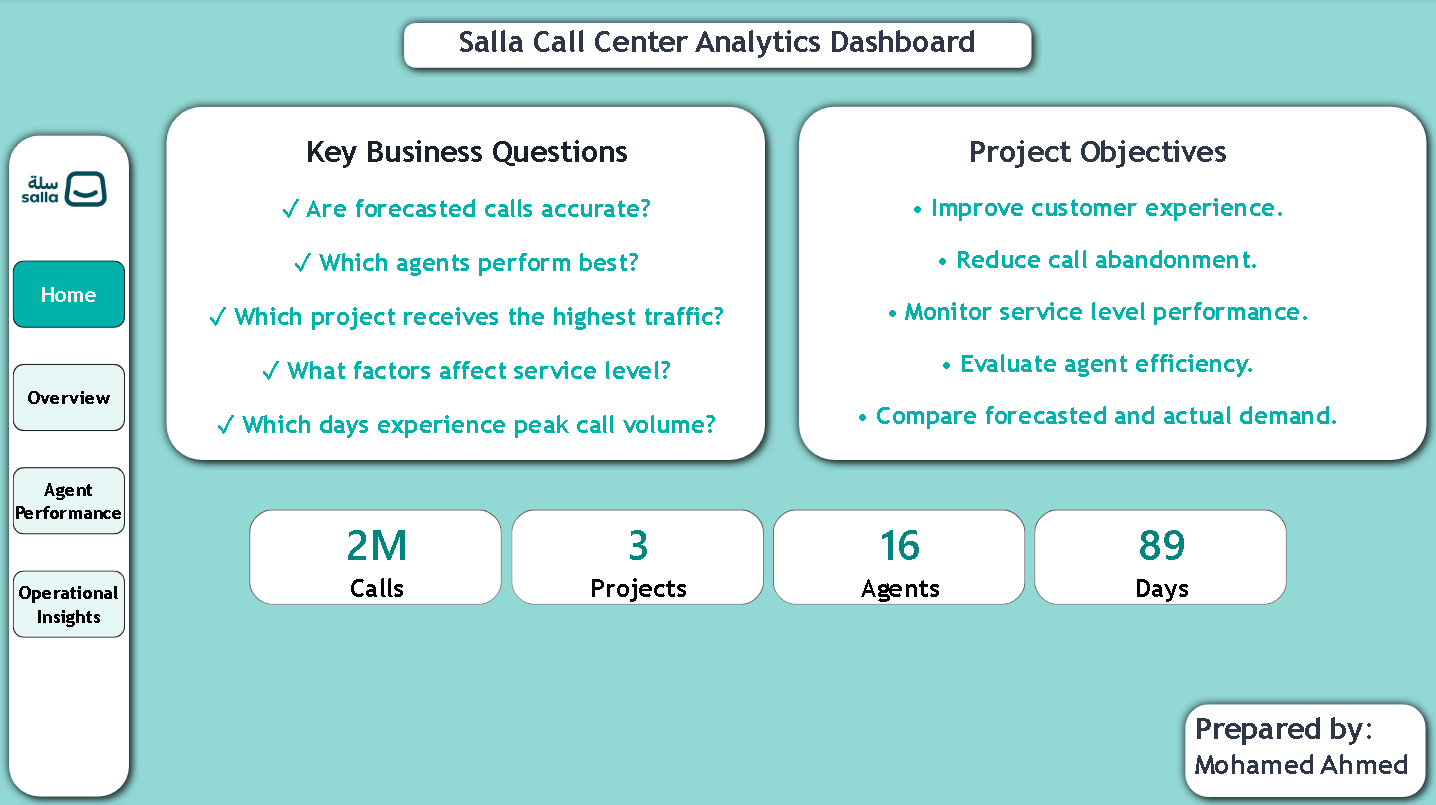

The page's visual inventory and layout, read from the dashboard file:
{"tool":"powerbi","page":{"name":"Home","canvas":[1280,720],"ordinal":0},"visuals":[{"type":"shape","box":[352.1,13.5,576.7,57.7],"z":0},{"type":"shape","box":[0,113.5,124.7,606.5],"z":1000},{"type":"textbox","box":[400,17.2,479.8,50.3],"z":2000},{"type":"image","box":[12.1,127.1,92,85.9],"z":3000},{"type":"shape","box":[139.9,88.3,550.9,332.5],"z":4000},{"type":"shape","box":[1047.9,619.6,231.9,100.6],"z":5000},{"type":"textbox","box":[1060.1,629.5,208.6,90.8],"z":6000},{"type":"textbox","box":[176.7,114.1,478.5,285.9],"z":7000},{"type":"shape","box":[703.1,88.3,576.7,332.5],"z":8000},{"type":"textbox","box":[738.7,114.1,478.5,285.9],"z":9000},{"type":"cardVisual","fields":{"Data":["Dax_measure.Total Calls Offered","Count(Salla_data.Project)","Count(Salla_data.Agent Name)","Count(Salla_data.Date)"]},"box":[206.1,438,962,119],"z":10000},{"type":"pageNavigator","box":[12.1,233.6,100.5,338.9],"z":11000}]}

Visuals, with their boxes in screenshot pixels (x1, y1, x2, y2), scaled from the page's 1280x720 canvas onto the 1436x805 screenshot:
shape: BBox(395, 15, 1042, 80)
shape: BBox(0, 127, 140, 804)
textbox: BBox(449, 19, 987, 75)
image: BBox(14, 142, 117, 238)
shape: BBox(157, 99, 775, 470)
shape: BBox(1176, 693, 1435, 804)
textbox: BBox(1189, 704, 1423, 804)
textbox: BBox(198, 128, 735, 447)
shape: BBox(789, 99, 1435, 470)
textbox: BBox(829, 128, 1366, 447)
cardVisual - Dax_measure.Total Calls Offered x Count(Salla_data.Project): BBox(231, 490, 1310, 623)
pageNavigator: BBox(14, 261, 126, 640)
